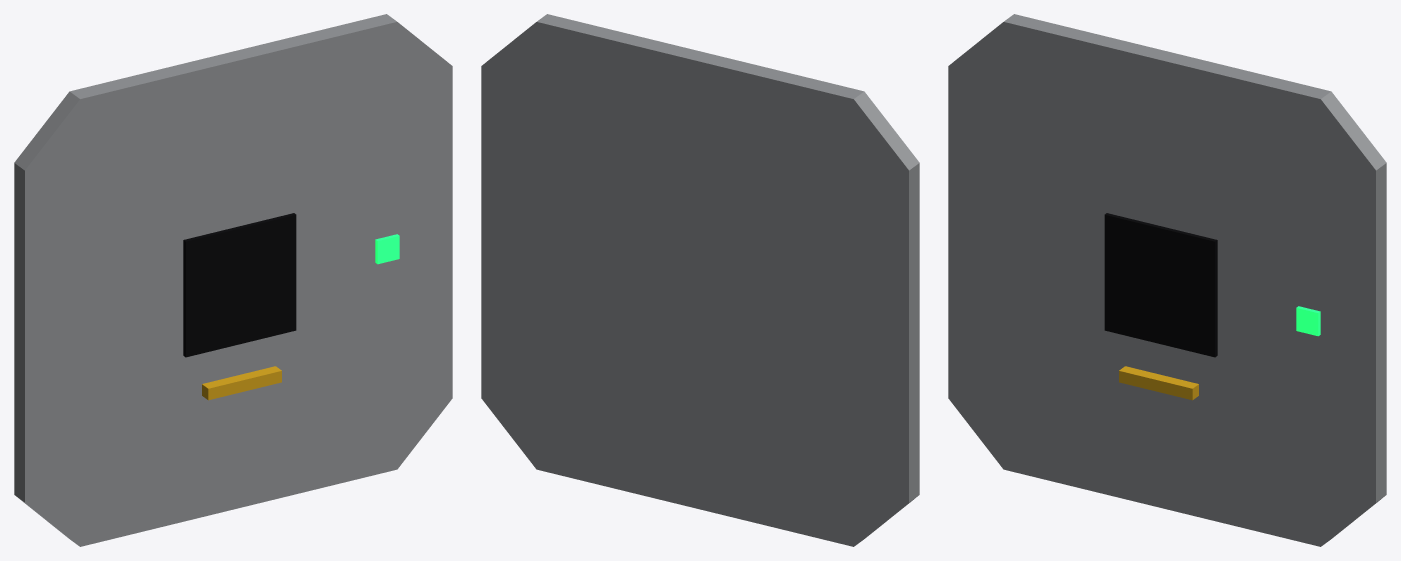
File: SM_Escotilla_Puerta.fbx
The picture shows the model from 3 angles, left to right: view 1: azimuth 30°, elevation 25°; view 2: azimuth 150°, elevation 25°; view 3: azimuth 330°, elevation 25°; orthographic projection.
Visible parts, largest first — view 1: SM_Escotilla_Puerta; view 2: SM_Escotilla_Puerta; view 3: SM_Escotilla_Puerta.
Part boxes in pixels (x1,y1,x2,y2): SM_Escotilla_Puerta: [14, 14, 452, 546]; SM_Escotilla_Puerta: [481, 14, 919, 546]; SM_Escotilla_Puerta: [948, 14, 1386, 546].
Size of the model in its own units: 1.16 by 1.16 by 0.08.
